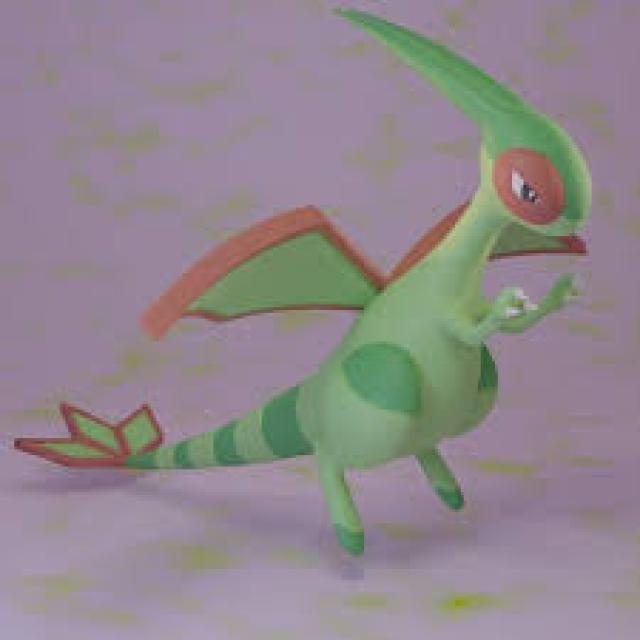flygon: (1, 2, 599, 565)
